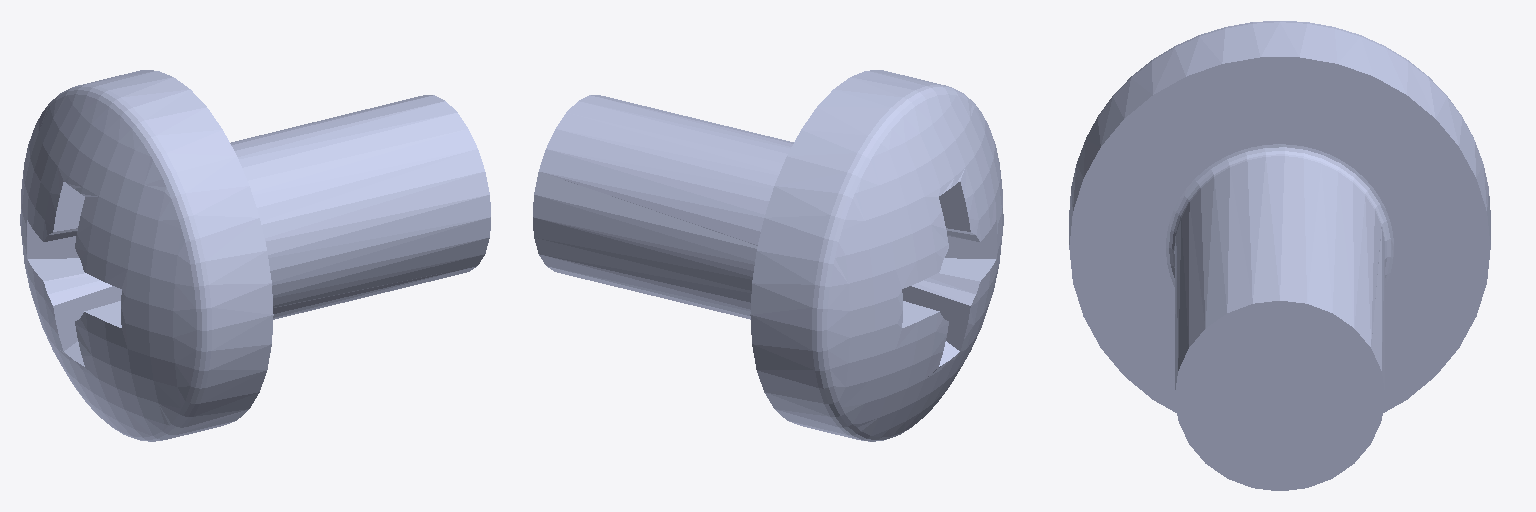
robot.urdf — screw1(4ea):
<?xml version="1.0" encoding="utf-8"?>
<!-- =================================================================================== -->
<!-- |    This document was autogenerated by xacro from [local-path]/catkin_ws/src/cai_env/urdf/screw1.urdf.xacro | -->
<!-- |    EDITING THIS FILE BY HAND IS NOT RECOMMENDED                                 | -->
<!-- =================================================================================== -->
<!-- This URDF was automatically created by SolidWorks to URDF Exporter! Originally created by Stephen Brawner ([email redacted]) 
     Commit Version: 1.5.1-0-g916b5db  Build Version: 1.5.7152.31018
     For more information, please see http://wiki.ros.org/sw_urdf_exporter -->
<robot name="screw1(4ea)" xmlns:xacro="http://www.ros.org/wiki/xacro">
  <link name="link">
    <inertial>
      <origin rpy="0 0 0" xyz="0.0057802 -5.5705E-08 1.1804E-08"/>
      <mass value="0.00065263"/>
      <inertia ixx="7.8853E-09" ixy="-1.2582E-13" ixz="2.9197E-14" iyy="1.4006E-08" iyz="-9.55529999999999E-14" izz="1.4007E-08"/>
    </inertial>
    <visual>
      <origin rpy="1.5707963267949 0 0" xyz="0 0 0"/>
      <geometry>
        <mesh filename="package://cai_env/meshes/screw1(4ea).STL"/>
      </geometry>
      <material name="">
        <color rgba="0.79216 0.81961 0.93333 1"/>
        <texture filename="package://cai_env/textures/"/>
      </material>
    </visual>
    <collision>
      <origin rpy="1.5707963267949 0 0" xyz="0 0 0"/>
      <geometry>
        <mesh filename="package://cai_env/meshes/screw1(4ea).STL"/>
      </geometry>
    </collision>
  </link>
  <gazebo reference="link">
    <material>Gazebo/GreyTransparent</material>
    <kp>1000000.0</kp>
    <kd>100.0</kd>
    <mu1>1000.0</mu1>
    <mu2>1000.0</mu2>
    <maxVel>0</maxVel>
    <minDepth>0.001</minDepth>
  </gazebo>
</robot>

--- What the picture shows (computed from the rendered views, not written in the file) ---
The picture shows the robot from 3 angles, left to right: view 1: azimuth 30°, elevation 25°; view 2: azimuth 150°, elevation 25°; view 3: azimuth 270°, elevation 25°; orthographic projection.
Robot: screw1(4ea) — 1 links, 0 joints (none); root link link; default pose: every joint at zero.
Visible links, largest first — view 1: link; view 2: link; view 3: link.
Link boxes in pixels (box(x1,y1,x2,y2)): link: box(20, 70, 490, 441); link: box(533, 70, 1003, 441); link: box(1069, 21, 1490, 490).
Bounding box of the posed robot: 0.0145 × 0.012 × 0.012 m (x, y, z).
1 mesh visuals loaded from 1 distinct referenced files (1 binary STL).
